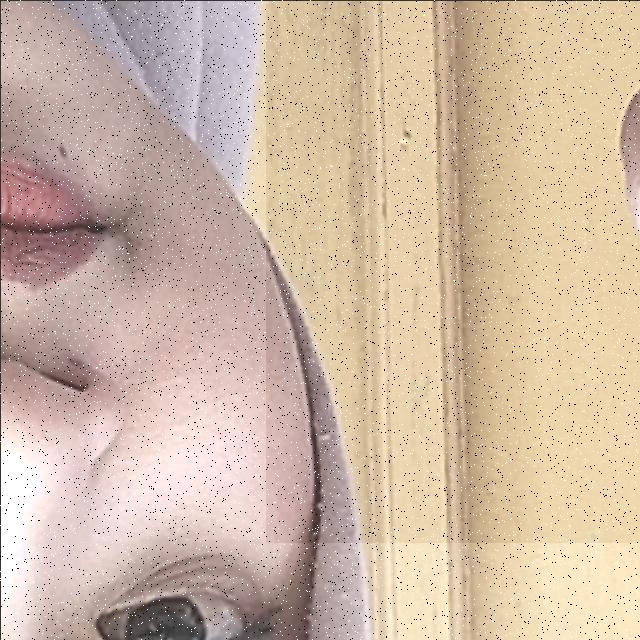baik: (265, 0, 640, 542)
